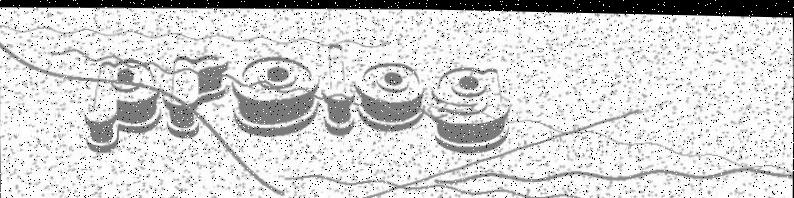g: (431, 64, 513, 152)
l: (320, 42, 355, 134)
o: (231, 53, 319, 137), (355, 59, 426, 131)
p: (83, 57, 162, 152)
r: (163, 53, 229, 139)
